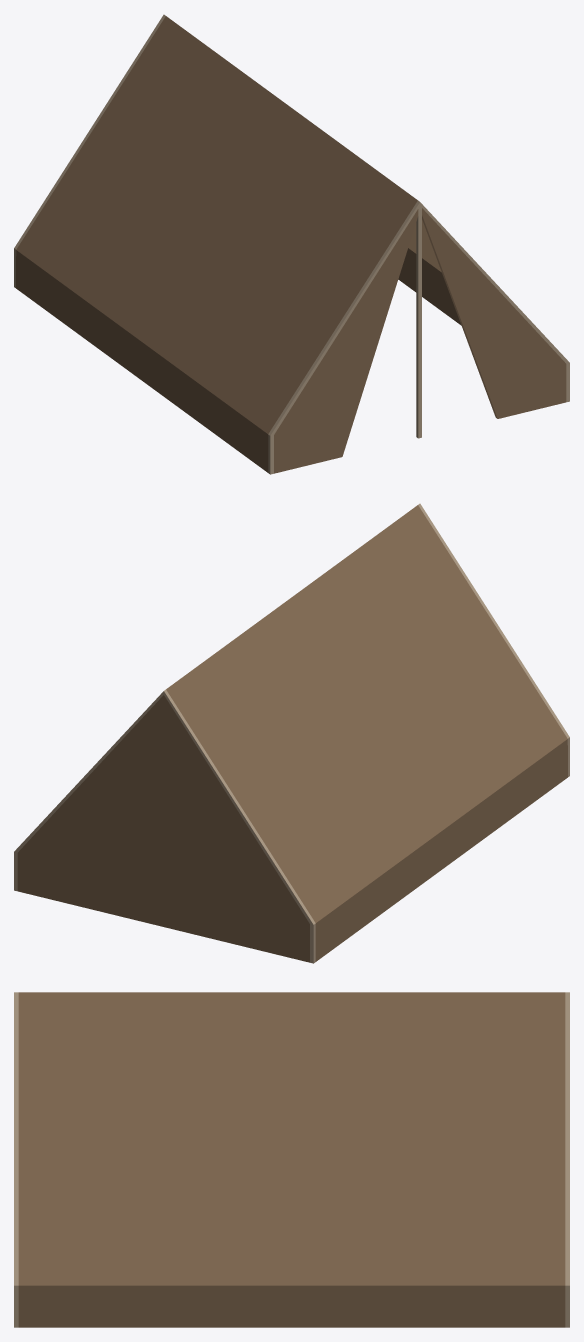
File: SPW_Medieval_Tent_03.glb
3 renders of one model, top to bottom at view 1: azimuth 30°, elevation 25°; view 2: azimuth 150°, elevation 25°; view 3: azimuth 270°, elevation 25°, orthographic. The views are drawn at different scales.
Visible parts, largest first — view 1: SPW_Medieval_Tent_03; view 2: SPW_Medieval_Tent_03; view 3: SPW_Medieval_Tent_03.
Part boxes in pixels (x1,y1,x2,y2): SPW_Medieval_Tent_03: (14, 14, 569, 474); SPW_Medieval_Tent_03: (14, 503, 569, 963); SPW_Medieval_Tent_03: (14, 992, 569, 1327).
Bounding box in the file's own units: 3.04 × 2.29 × 4.5.
1 material, 1 textured.
